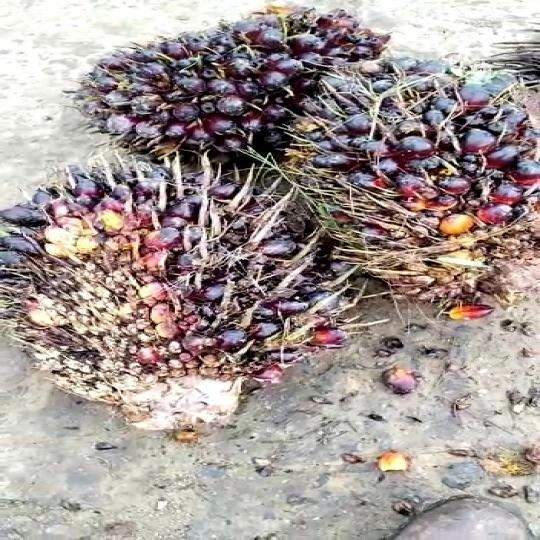kurang masak: (4, 171, 338, 409), (285, 59, 540, 296), (99, 19, 338, 162)
